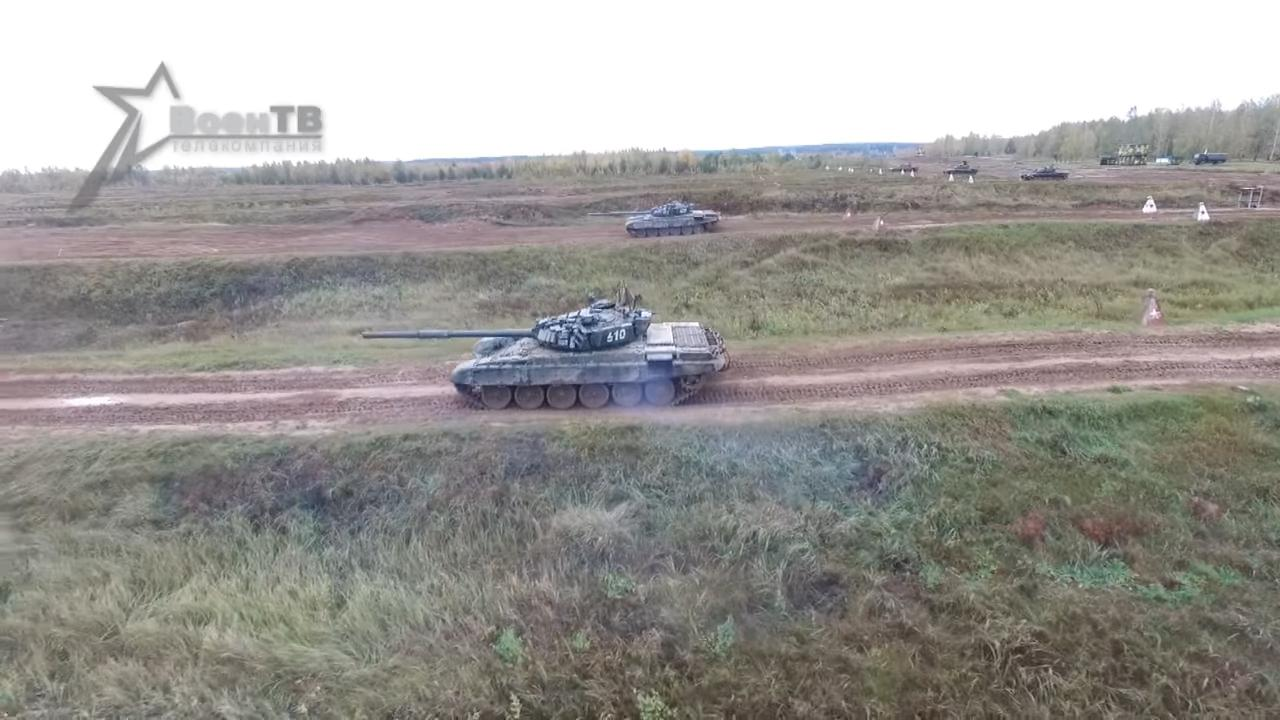tank: (360, 300, 726, 411), (588, 201, 721, 238), (1020, 166, 1070, 181), (944, 164, 978, 176)
